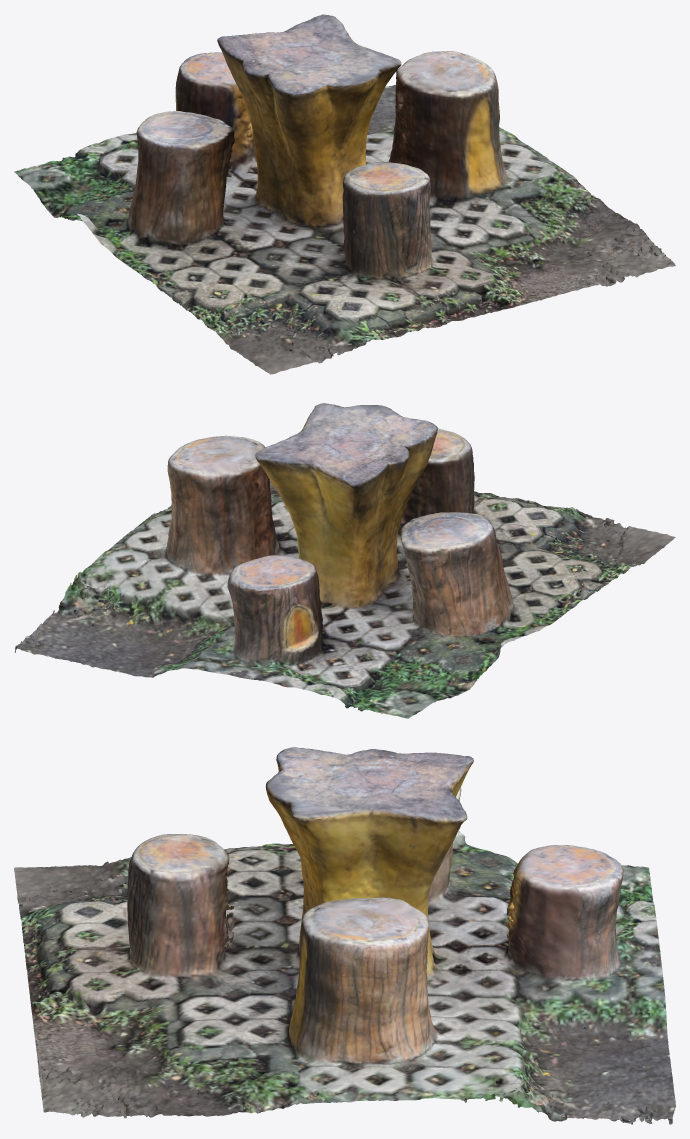
The model's file is garden_table_and_chair.glb.
The picture shows the model from 3 angles, top to bottom: view 1: azimuth 30°, elevation 25°; view 2: azimuth 150°, elevation 25°; view 3: azimuth 270°, elevation 25°; orthographic projection. The views are drawn at different scales.
Visible parts, largest first — view 1: Object_4, Object_5; view 2: Object_4, Object_5; view 3: Object_4, Object_5.
Part boxes in pixels (bbox=[...]): Object_4: bbox=[14, 14, 675, 374]; Object_5: bbox=[130, 49, 649, 350]; Object_4: bbox=[14, 405, 675, 718]; Object_5: bbox=[29, 403, 638, 642]; Object_4: bbox=[14, 747, 675, 1124]; Object_5: bbox=[21, 751, 651, 1122].
Size of the model in its own units: 2.21 by 0.8755 by 2.41.
1 material, 1 textured.
